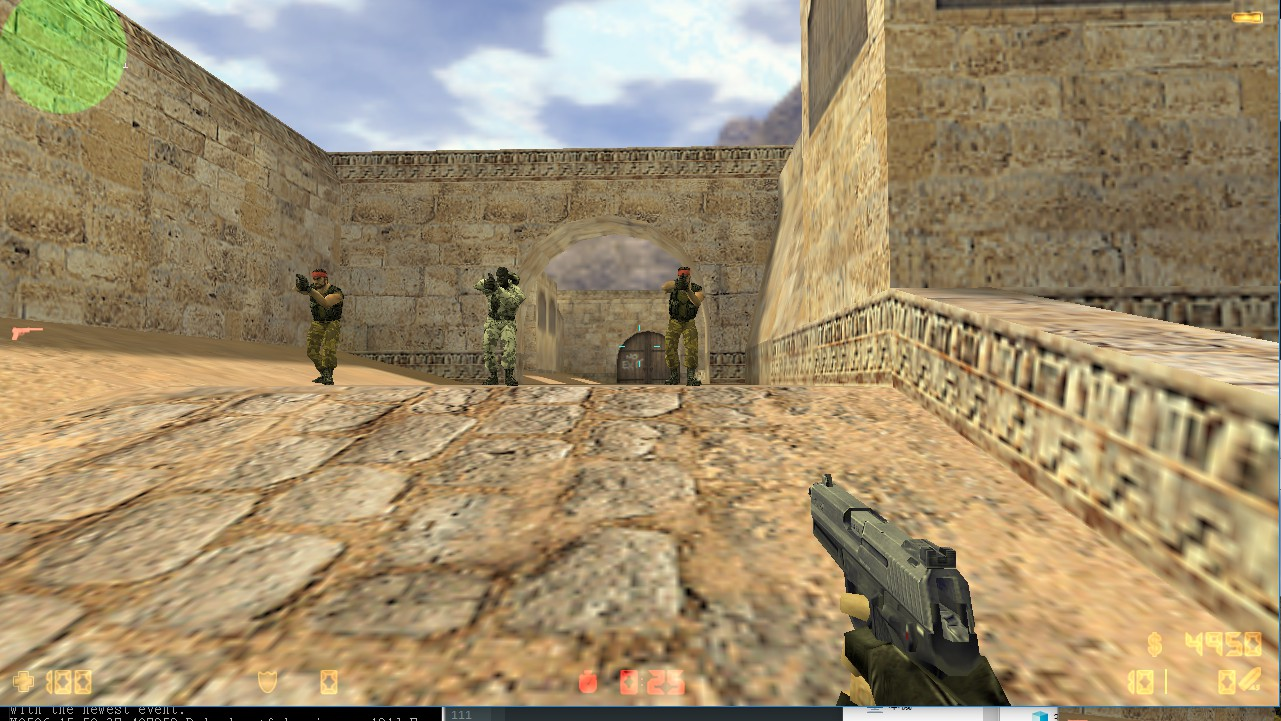person: (289, 261, 353, 386), (656, 263, 710, 388), (472, 263, 522, 385)
